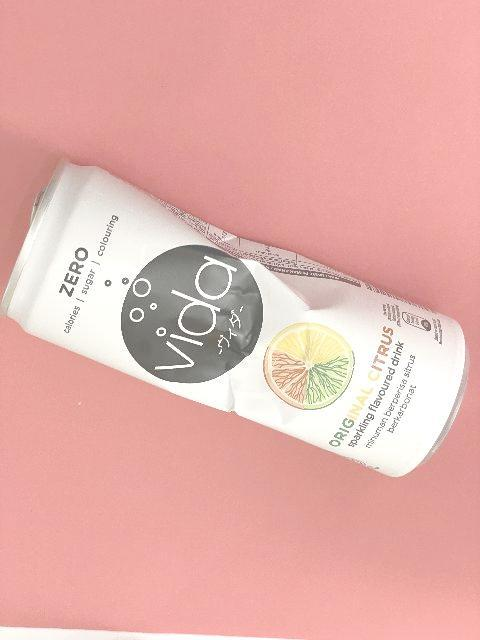drinkcan: (0, 156, 468, 478)
